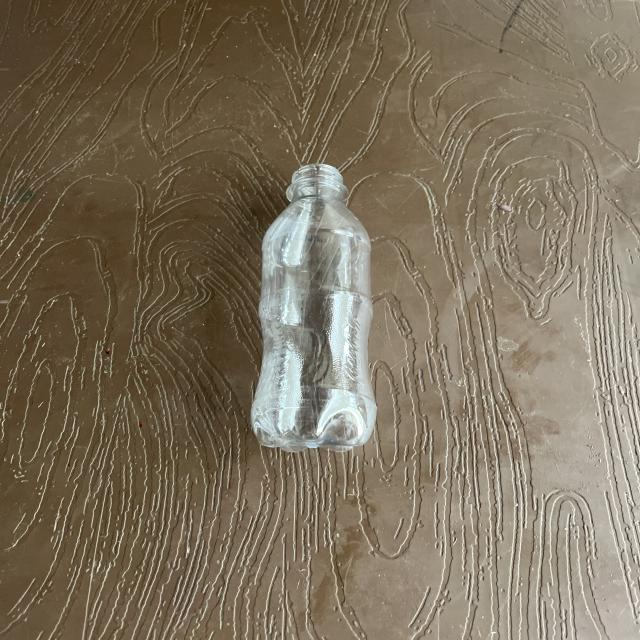PET_ClearBottle: (240, 166, 385, 633)
